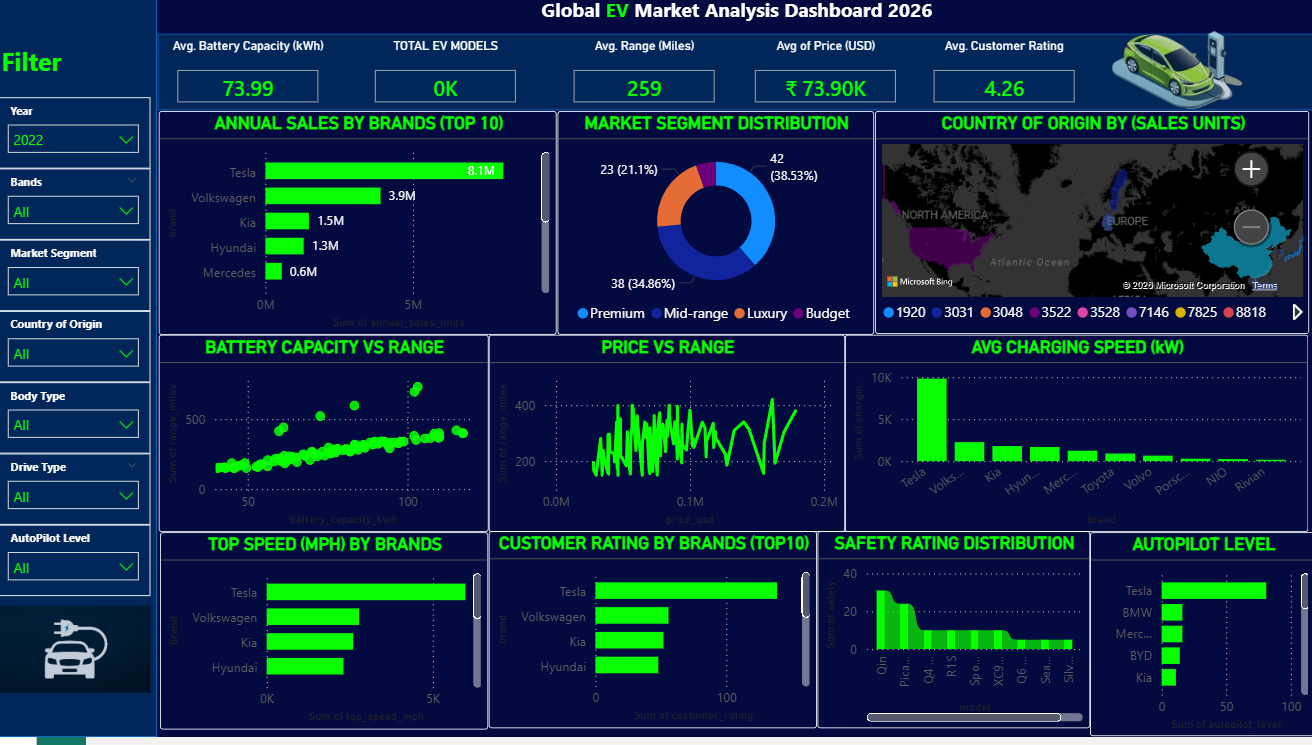

Layout of this report page (visuals, bound fields, positions):
{"tool":"powerbi","page":{"name":"Page 1","canvas":[1280,720],"ordinal":0},"visuals":[{"type":"clusteredBarChart","title":"ANNUAL SALES BY BRANDS (TOP 10)","fields":{"Y":["Sum(ev_market_2026.annual_sales_units)"],"Category":["ev_market_2026.brand"]},"box":[162.8,116.2,384.3,215.7],"z":0},{"type":"shape","box":[0,0,161.2,720],"z":1000},{"type":"slicer","fields":{"Values":["ev_market_2026.year"]},"box":[6.2,102.5,148.8,68.8],"z":2000},{"type":"slicer","fields":{"Values":["ev_market_2026.brand"]},"box":[6.2,171.2,148.8,68.8],"z":3000},{"type":"slicer","fields":{"Values":["ev_market_2026.market_segment"]},"box":[5.9,240,148.8,68.8],"z":4000},{"type":"slicer","fields":{"Values":["ev_market_2026.country_of_origin"]},"box":[5.9,308.8,148.8,68.8],"z":5000},{"type":"slicer","fields":{"Values":["ev_market_2026.body_type"]},"box":[6.2,377.5,148.8,68.8],"z":6000},{"type":"slicer","fields":{"Values":["ev_market_2026.drive_type"]},"box":[6.2,446.2,148.8,68.8],"z":7000},{"type":"slicer","fields":{"Values":["ev_market_2026.autopilot_level"]},"box":[6.2,515,148.8,68.8],"z":8000},{"type":"textbox","box":[6.2,47.5,113.8,55],"z":9000},{"type":"textbox","box":[161.4,0,1118.6,47.1],"z":10000},{"type":"shape","box":[161.4,41.4,1118.6,74.3],"z":11000},{"type":"cardVisual","title":"Avg of Price (USD)","fields":{"Data":["Avg(ev_market_2026.price_usd)"]},"box":[721.2,46.2,170,78.8],"z":12000},{"type":"donutChart","title":"MARKET SEGMENT DISTRIBUTION","fields":{"Category":["ev_market_2026.market_segment"],"Y":["CountNonNull(ev_market_2026.body_type)"]},"box":[547.1,116.2,305.7,215.7],"z":13000},{"type":"scatterChart","title":"BATTERY CAPACITY VS RANGE","fields":{"Y":["Sum(ev_market_2026.range_miles)"],"X":["ev_market_2026.battery_capacity_kwh"]},"box":[162.8,331.9,318.6,190],"z":14000},{"type":"lineChart","title":"PRICE VS RANGE","fields":{"Category":["ev_market_2026.price_usd"],"Y":["Sum(ev_market_2026.range_miles)"]},"box":[481.4,331.9,344.3,190],"z":15000},{"type":"columnChart","title":"AVG CHARGING SPEED (kW)","fields":{"Category":["ev_market_2026.brand"],"Y":["Sum(ev_market_2026.charging_speed_kw)"]},"box":[825.7,331.4,447.1,190],"z":16000},{"type":"clusteredBarChart","title":"TOP SPEED (MPH) BY BRANDS","fields":{"Category":["ev_market_2026.brand"],"Y":["Sum(ev_market_2026.top_speed_mph)"]},"box":[164.3,522.9,317.1,190],"z":17000},{"type":"barChart","title":"CUSTOMER RATING BY BRANDS   (TOP10)","fields":{"Category":["ev_market_2026.brand"],"Y":["Sum(ev_market_2026.customer_rating)"]},"box":[481.4,521.4,317.1,190],"z":18000},{"type":"ribbonChart","title":"SAFETY RATING DISTRIBUTION ","fields":{"Category":["ev_market_2026.model"],"Y":["Sum(ev_market_2026.safety_rating)"]},"box":[798.6,521.4,262.9,190],"z":19000},{"type":"barChart","title":"AUTOPILOT LEVEL","fields":{"Category":["ev_market_2026.brand"],"Y":["Sum(ev_market_2026.autopilot_level)"]},"box":[1061.4,522.9,218.6,197.1],"z":20000},{"type":"cardVisual","title":"Avg. Battery Capacity  (kWh)","fields":{"Data":["Avg(ev_market_2026.battery_capacity_kwh)"]},"box":[163.8,46.2,170,78.8],"z":21000},{"type":"cardVisual","title":"TOTAL EV MODELS","fields":{"Data":["CountNonNull(ev_market_2026.model)"]},"box":[355,46.2,170,78.8],"z":22000},{"type":"cardVisual","title":"Avg. Range (Miles)","fields":{"Data":["Avg(ev_market_2026.range_miles)"]},"box":[546.2,46.2,170,78.8],"z":23000},{"type":"filledMap","title":"COUNTRY OF ORIGIN BY (SALES UNITS)","fields":{"Series":["ev_market_2026.annual_sales_units"],"Category":["ev_market_2026.country_of_origin"]},"box":[853.8,116.2,420,215],"z":24000},{"type":"image","box":[6.2,550,148.8,170],"z":25000},{"type":"textbox","box":[0,0,113.8,55],"z":26000},{"type":"image","box":[993.8,0,286.2,152.5],"z":27000},{"type":"cardVisual","title":"Avg. Customer Rating","fields":{"Data":["Max(ev_market_2026.customer_rating)"]},"box":[893.8,46.2,170,78.8],"z":28000}]}

Visuals, with their boxes in screenshot pixels (x1, y1, x2, y2), scaled from the page's 1280x720 canvas onto the 1312x745 screenshot:
"ANNUAL SALES BY BRANDS (TOP 10)" clusteredBarChart: region(167, 120, 561, 343)
shape: region(0, 0, 165, 744)
slicer - ev_market_2026.year: region(6, 106, 159, 177)
slicer - ev_market_2026.brand: region(6, 177, 159, 248)
slicer - ev_market_2026.market_segment: region(6, 248, 159, 320)
slicer - ev_market_2026.country_of_origin: region(6, 320, 159, 391)
slicer - ev_market_2026.body_type: region(6, 391, 159, 462)
slicer - ev_market_2026.drive_type: region(6, 462, 159, 533)
slicer - ev_market_2026.autopilot_level: region(6, 533, 159, 604)
textbox: region(6, 49, 123, 106)
textbox: region(165, 0, 1311, 49)
shape: region(165, 43, 1311, 120)
"Avg of Price (USD)" cardVisual: region(739, 48, 913, 129)
"MARKET SEGMENT DISTRIBUTION" donutChart: region(561, 120, 874, 343)
"BATTERY CAPACITY VS RANGE" scatterChart: region(167, 343, 493, 540)
"PRICE VS RANGE" lineChart: region(493, 343, 846, 540)
"AVG CHARGING SPEED (kW)" columnChart: region(846, 343, 1305, 540)
"TOP SPEED (MPH) BY BRANDS" clusteredBarChart: region(168, 541, 493, 738)
"CUSTOMER RATING BY BRANDS   (TOP10)" barChart: region(493, 540, 818, 736)
"SAFETY RATING DISTRIBUTION " ribbonChart: region(819, 540, 1088, 736)
"AUTOPILOT LEVEL" barChart: region(1088, 541, 1311, 744)
"Avg. Battery Capacity  (kWh)" cardVisual: region(168, 48, 342, 129)
"TOTAL EV MODELS" cardVisual: region(364, 48, 538, 129)
"Avg. Range (Miles)" cardVisual: region(560, 48, 734, 129)
"COUNTRY OF ORIGIN BY (SALES UNITS)" filledMap: region(875, 120, 1306, 343)
image: region(6, 569, 159, 744)
textbox: region(0, 0, 117, 57)
image: region(1019, 0, 1311, 158)
"Avg. Customer Rating" cardVisual: region(916, 48, 1090, 129)
